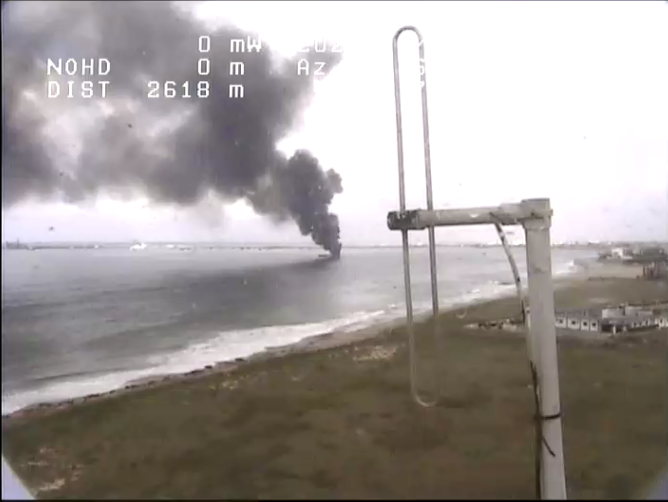FIRE_ONBOARD: (208, 41, 371, 303)
FISHING_VESSEL: (311, 243, 354, 275)
